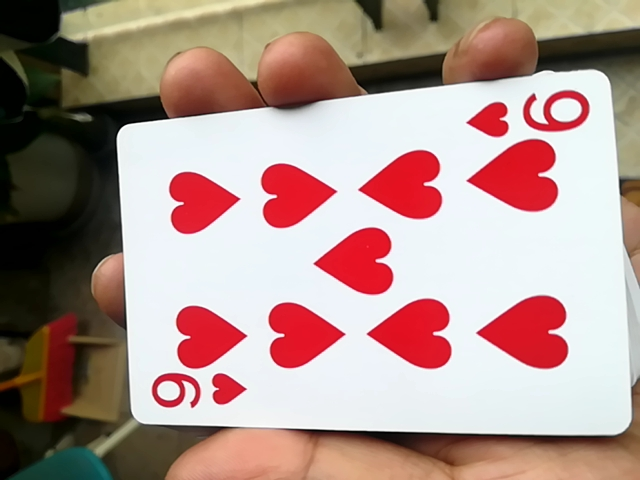hx 9: (106, 95, 629, 447)
